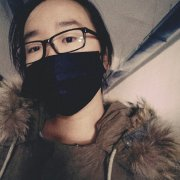face_mask: (24, 3, 99, 113)
